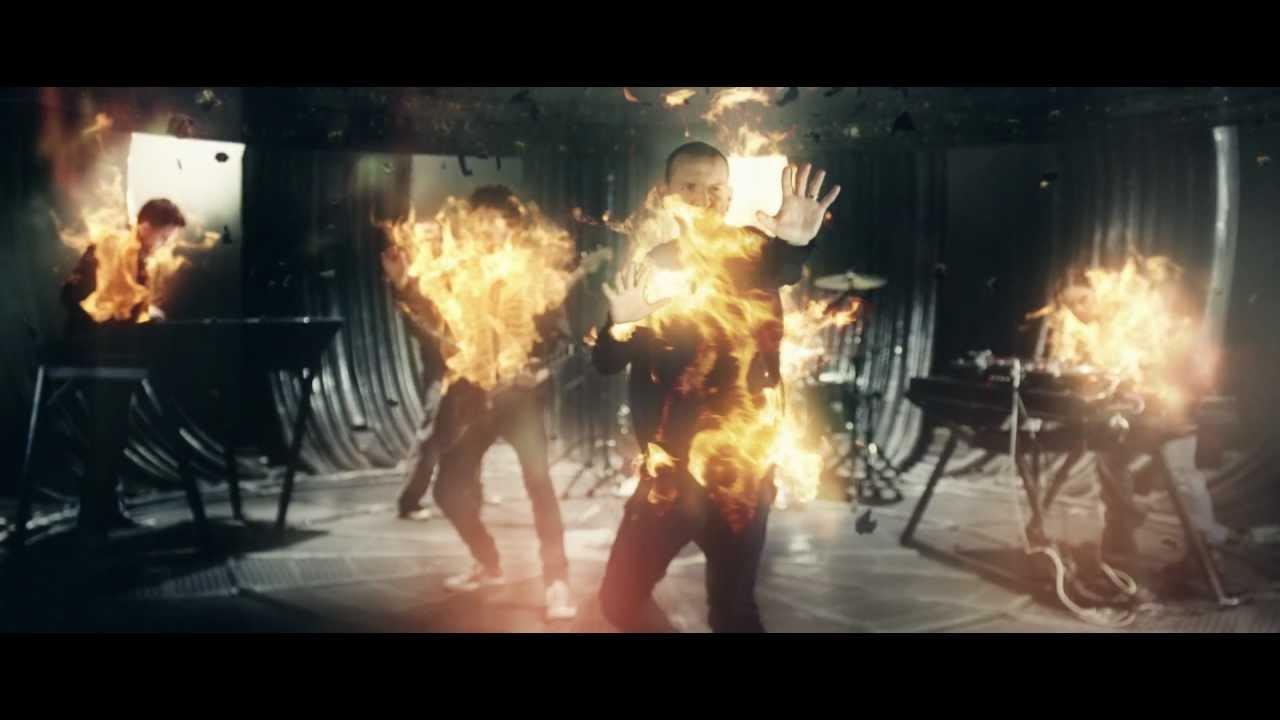Fire: (612, 177, 849, 510), (380, 197, 583, 380), (51, 129, 201, 338), (1032, 240, 1212, 385)
